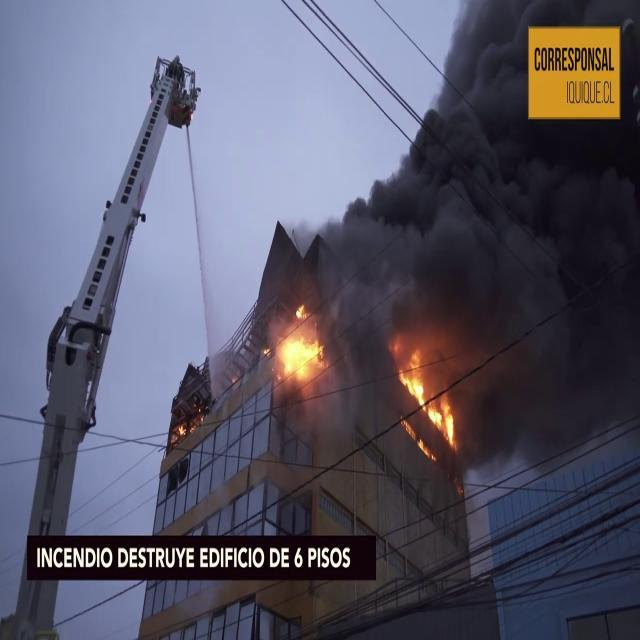Fire: (391, 341, 458, 452), (273, 302, 326, 387)
Smoke: (313, 1, 640, 460)
